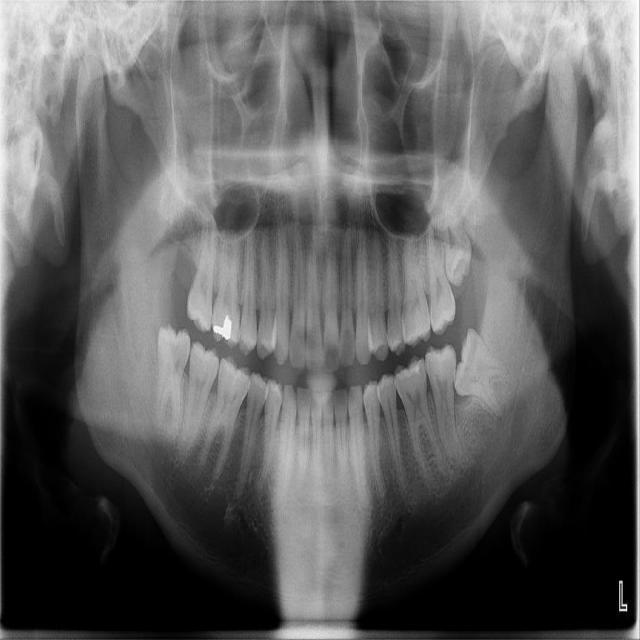3M ESPE Implant: (185, 206, 219, 332)
52: (211, 298, 241, 346)
73: (588, 580, 592, 600)
BioHorizons Implant: (427, 218, 457, 332)
BioLife Implant: (439, 200, 476, 289)
Biomet 3i Implant: (451, 325, 514, 417)
Blue Sky Bio Implant: (424, 343, 460, 461)
Caries: (211, 234, 241, 346)
Implant: (178, 339, 222, 458)
Keystone Dental Implant: (155, 325, 190, 435)
